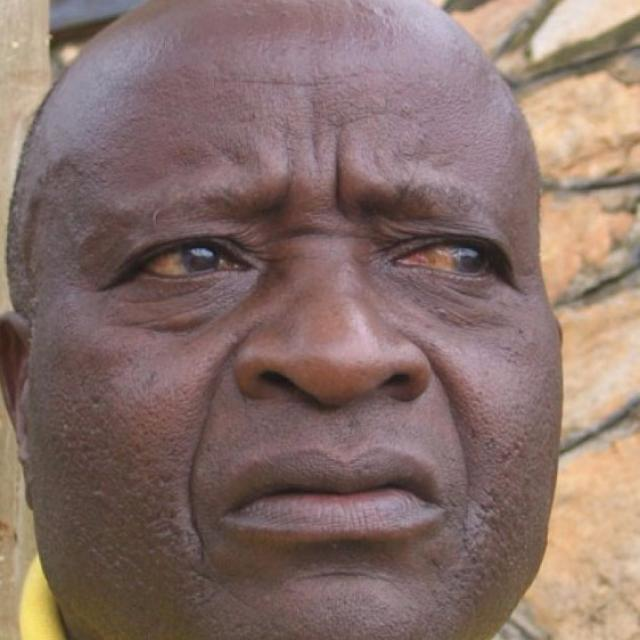Depress: (26, 67, 565, 639)
